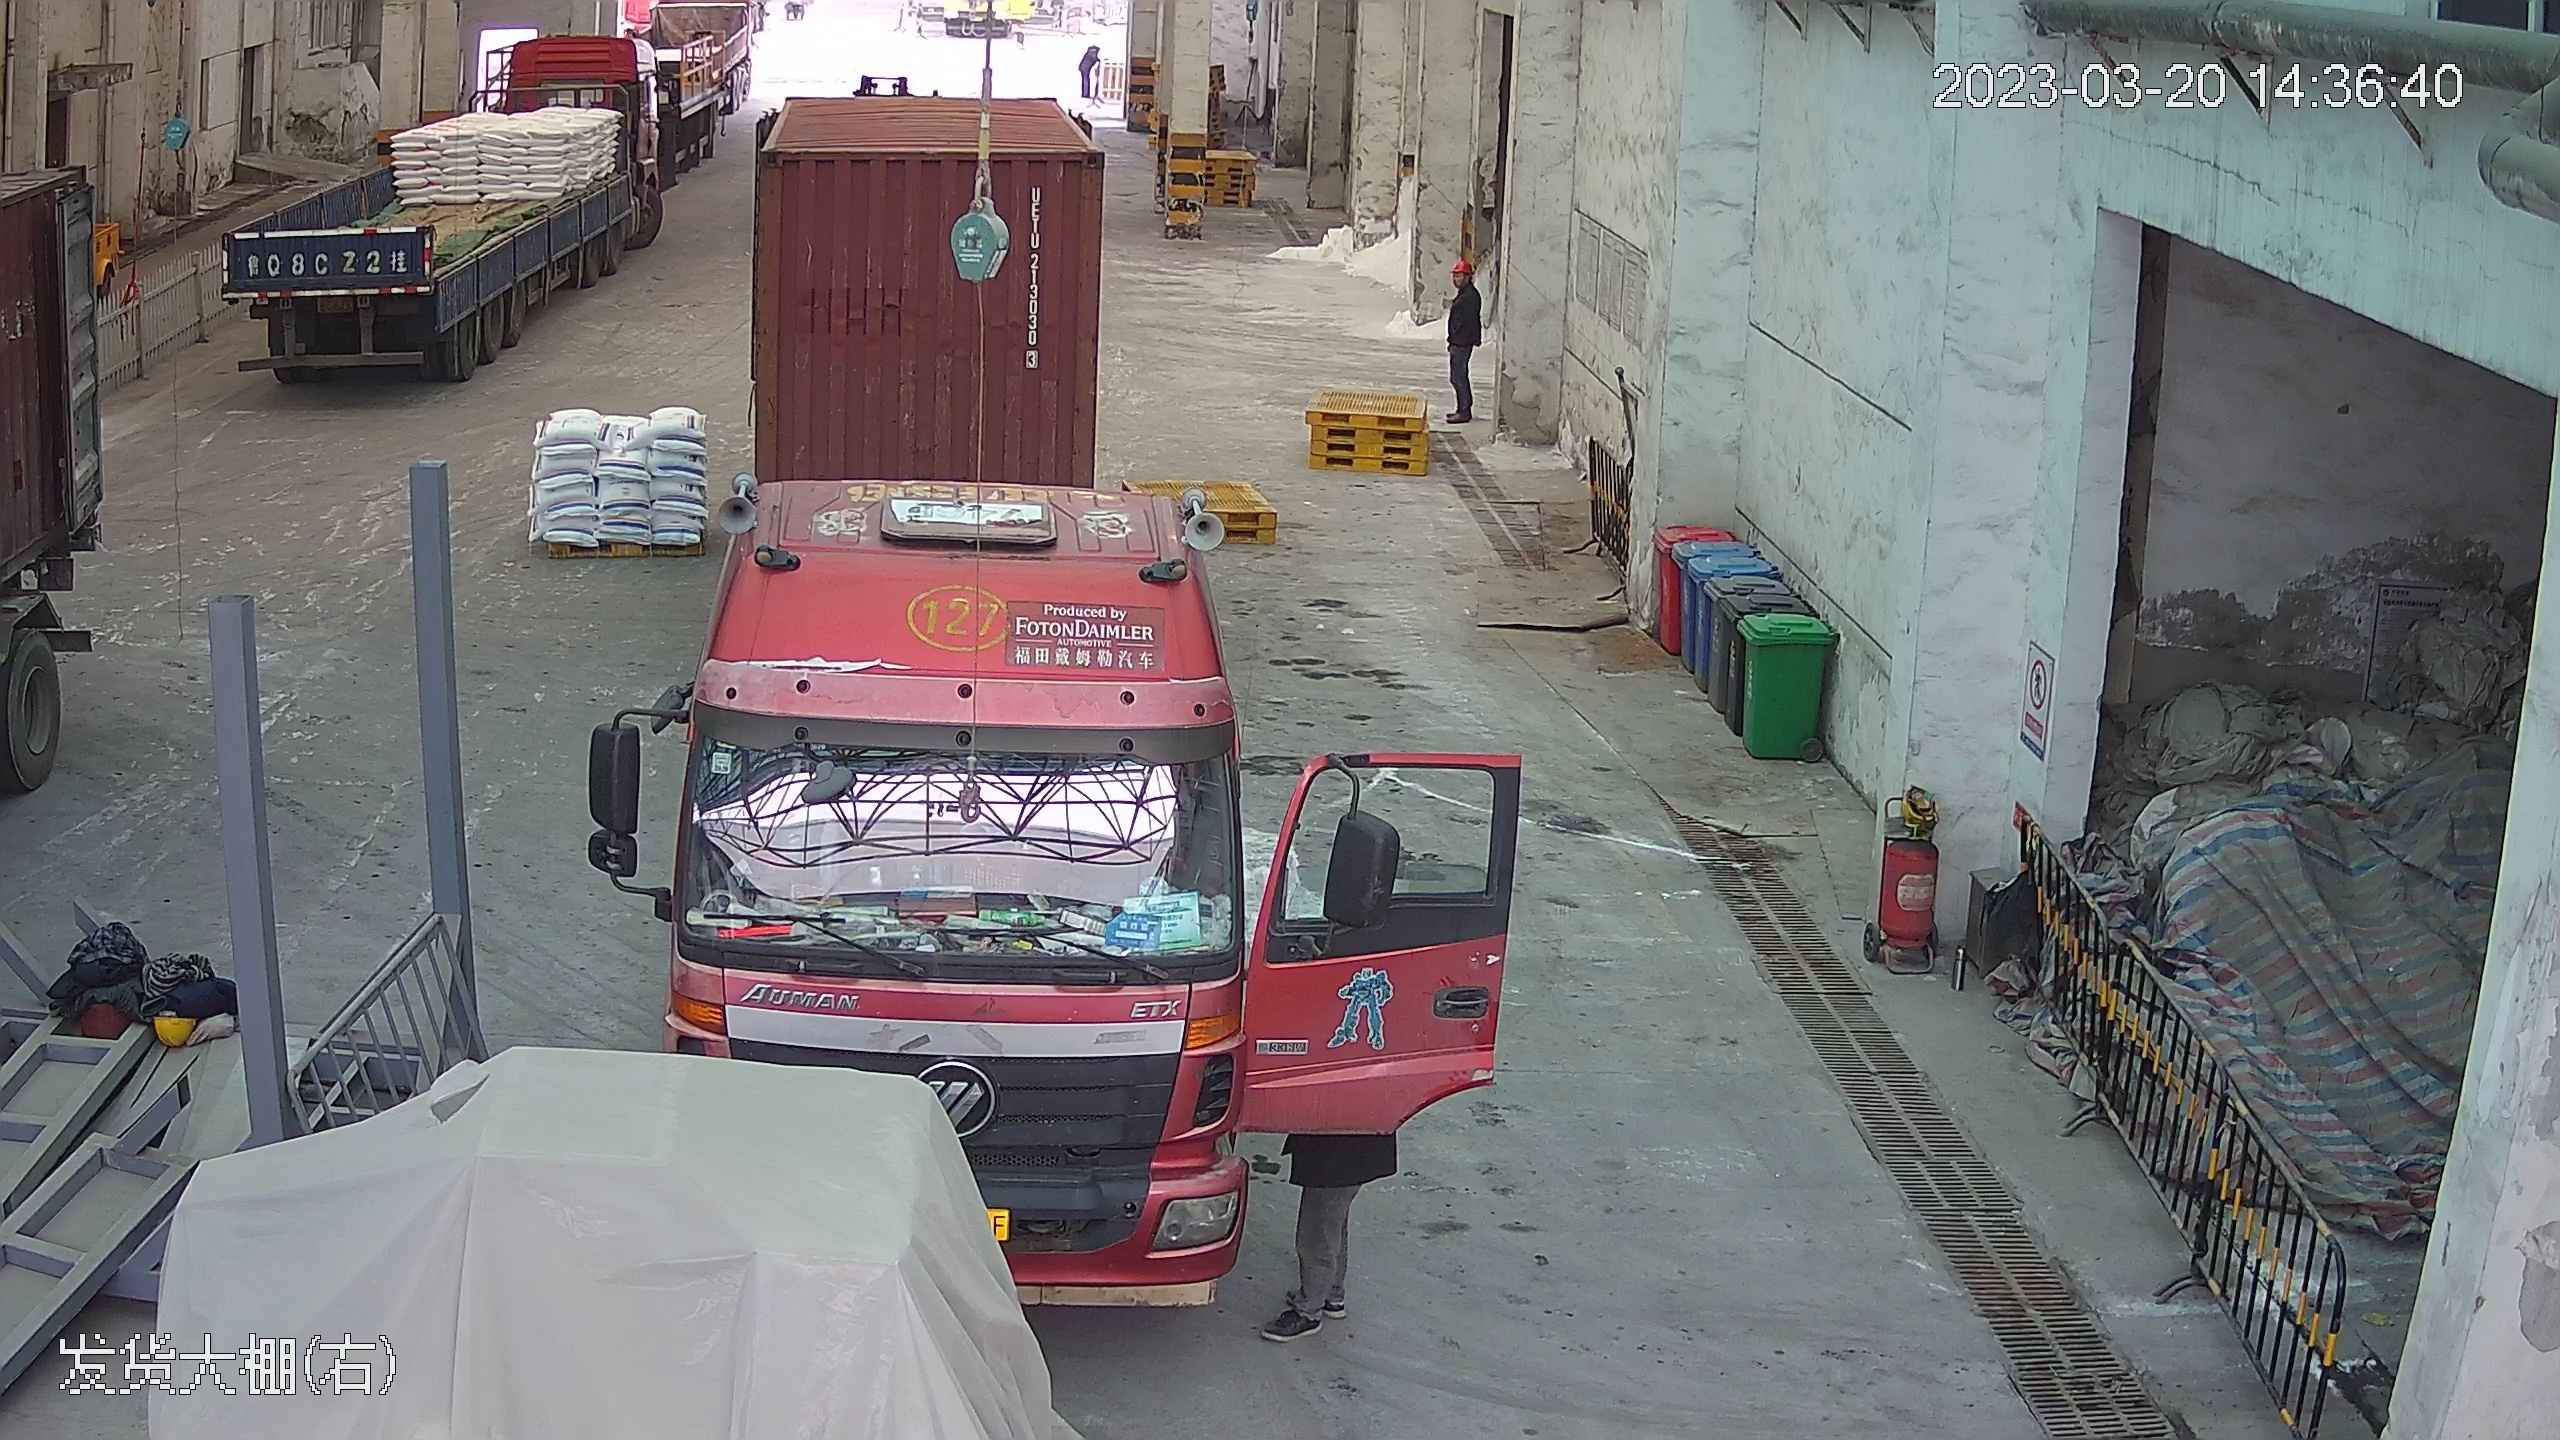head: (1444, 250, 1481, 309)
helmet: (1451, 248, 1474, 276)
people: (1437, 246, 1488, 427)
truck: (649, 73, 1244, 1271), (222, 30, 666, 389)
